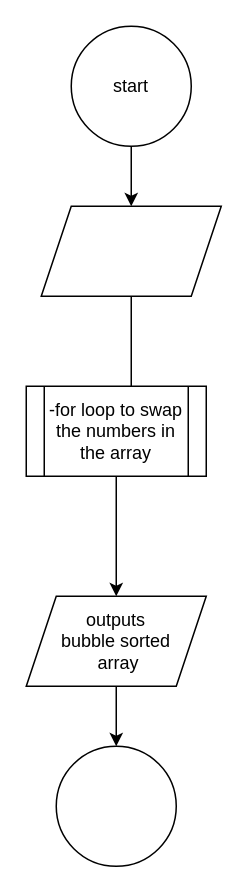
Some shapes in this 248 by 893 pixel diagram are drawn without their labels. The box of each missing label's shape, as (x1, y1, x2, y2) in pixels:
array list: (40, 205, 221, 296)
end: (55, 745, 176, 866)
